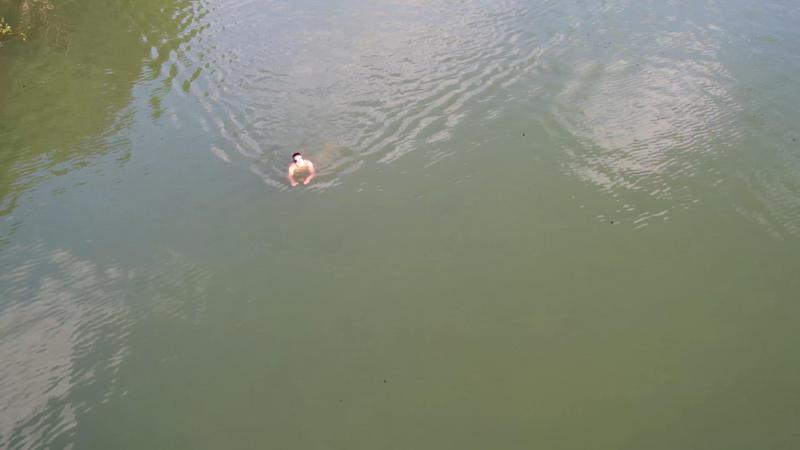swimmers: (286, 151, 316, 187)
